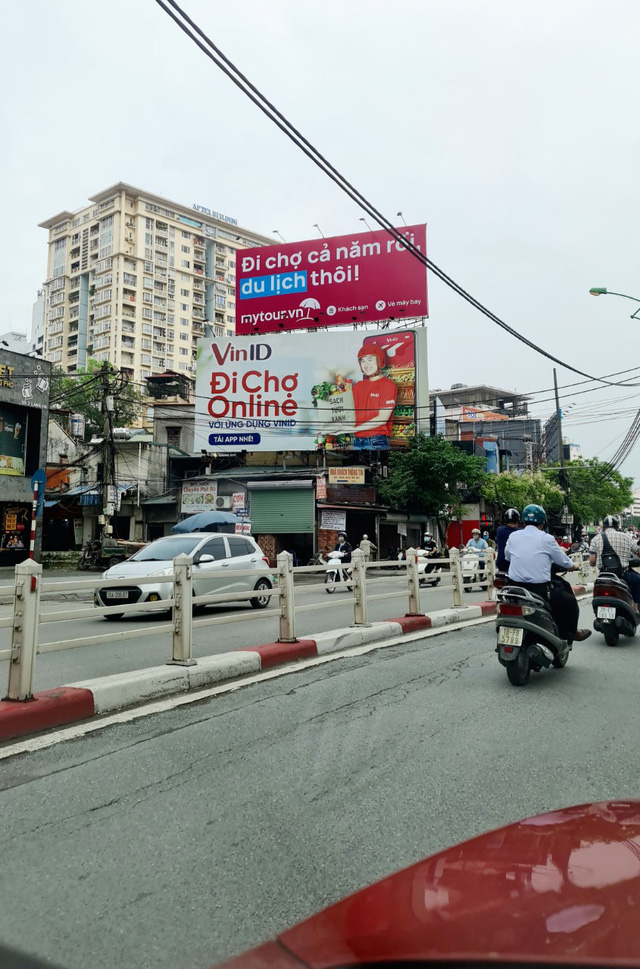bien_so: (495, 623, 526, 650), (596, 601, 618, 623)
